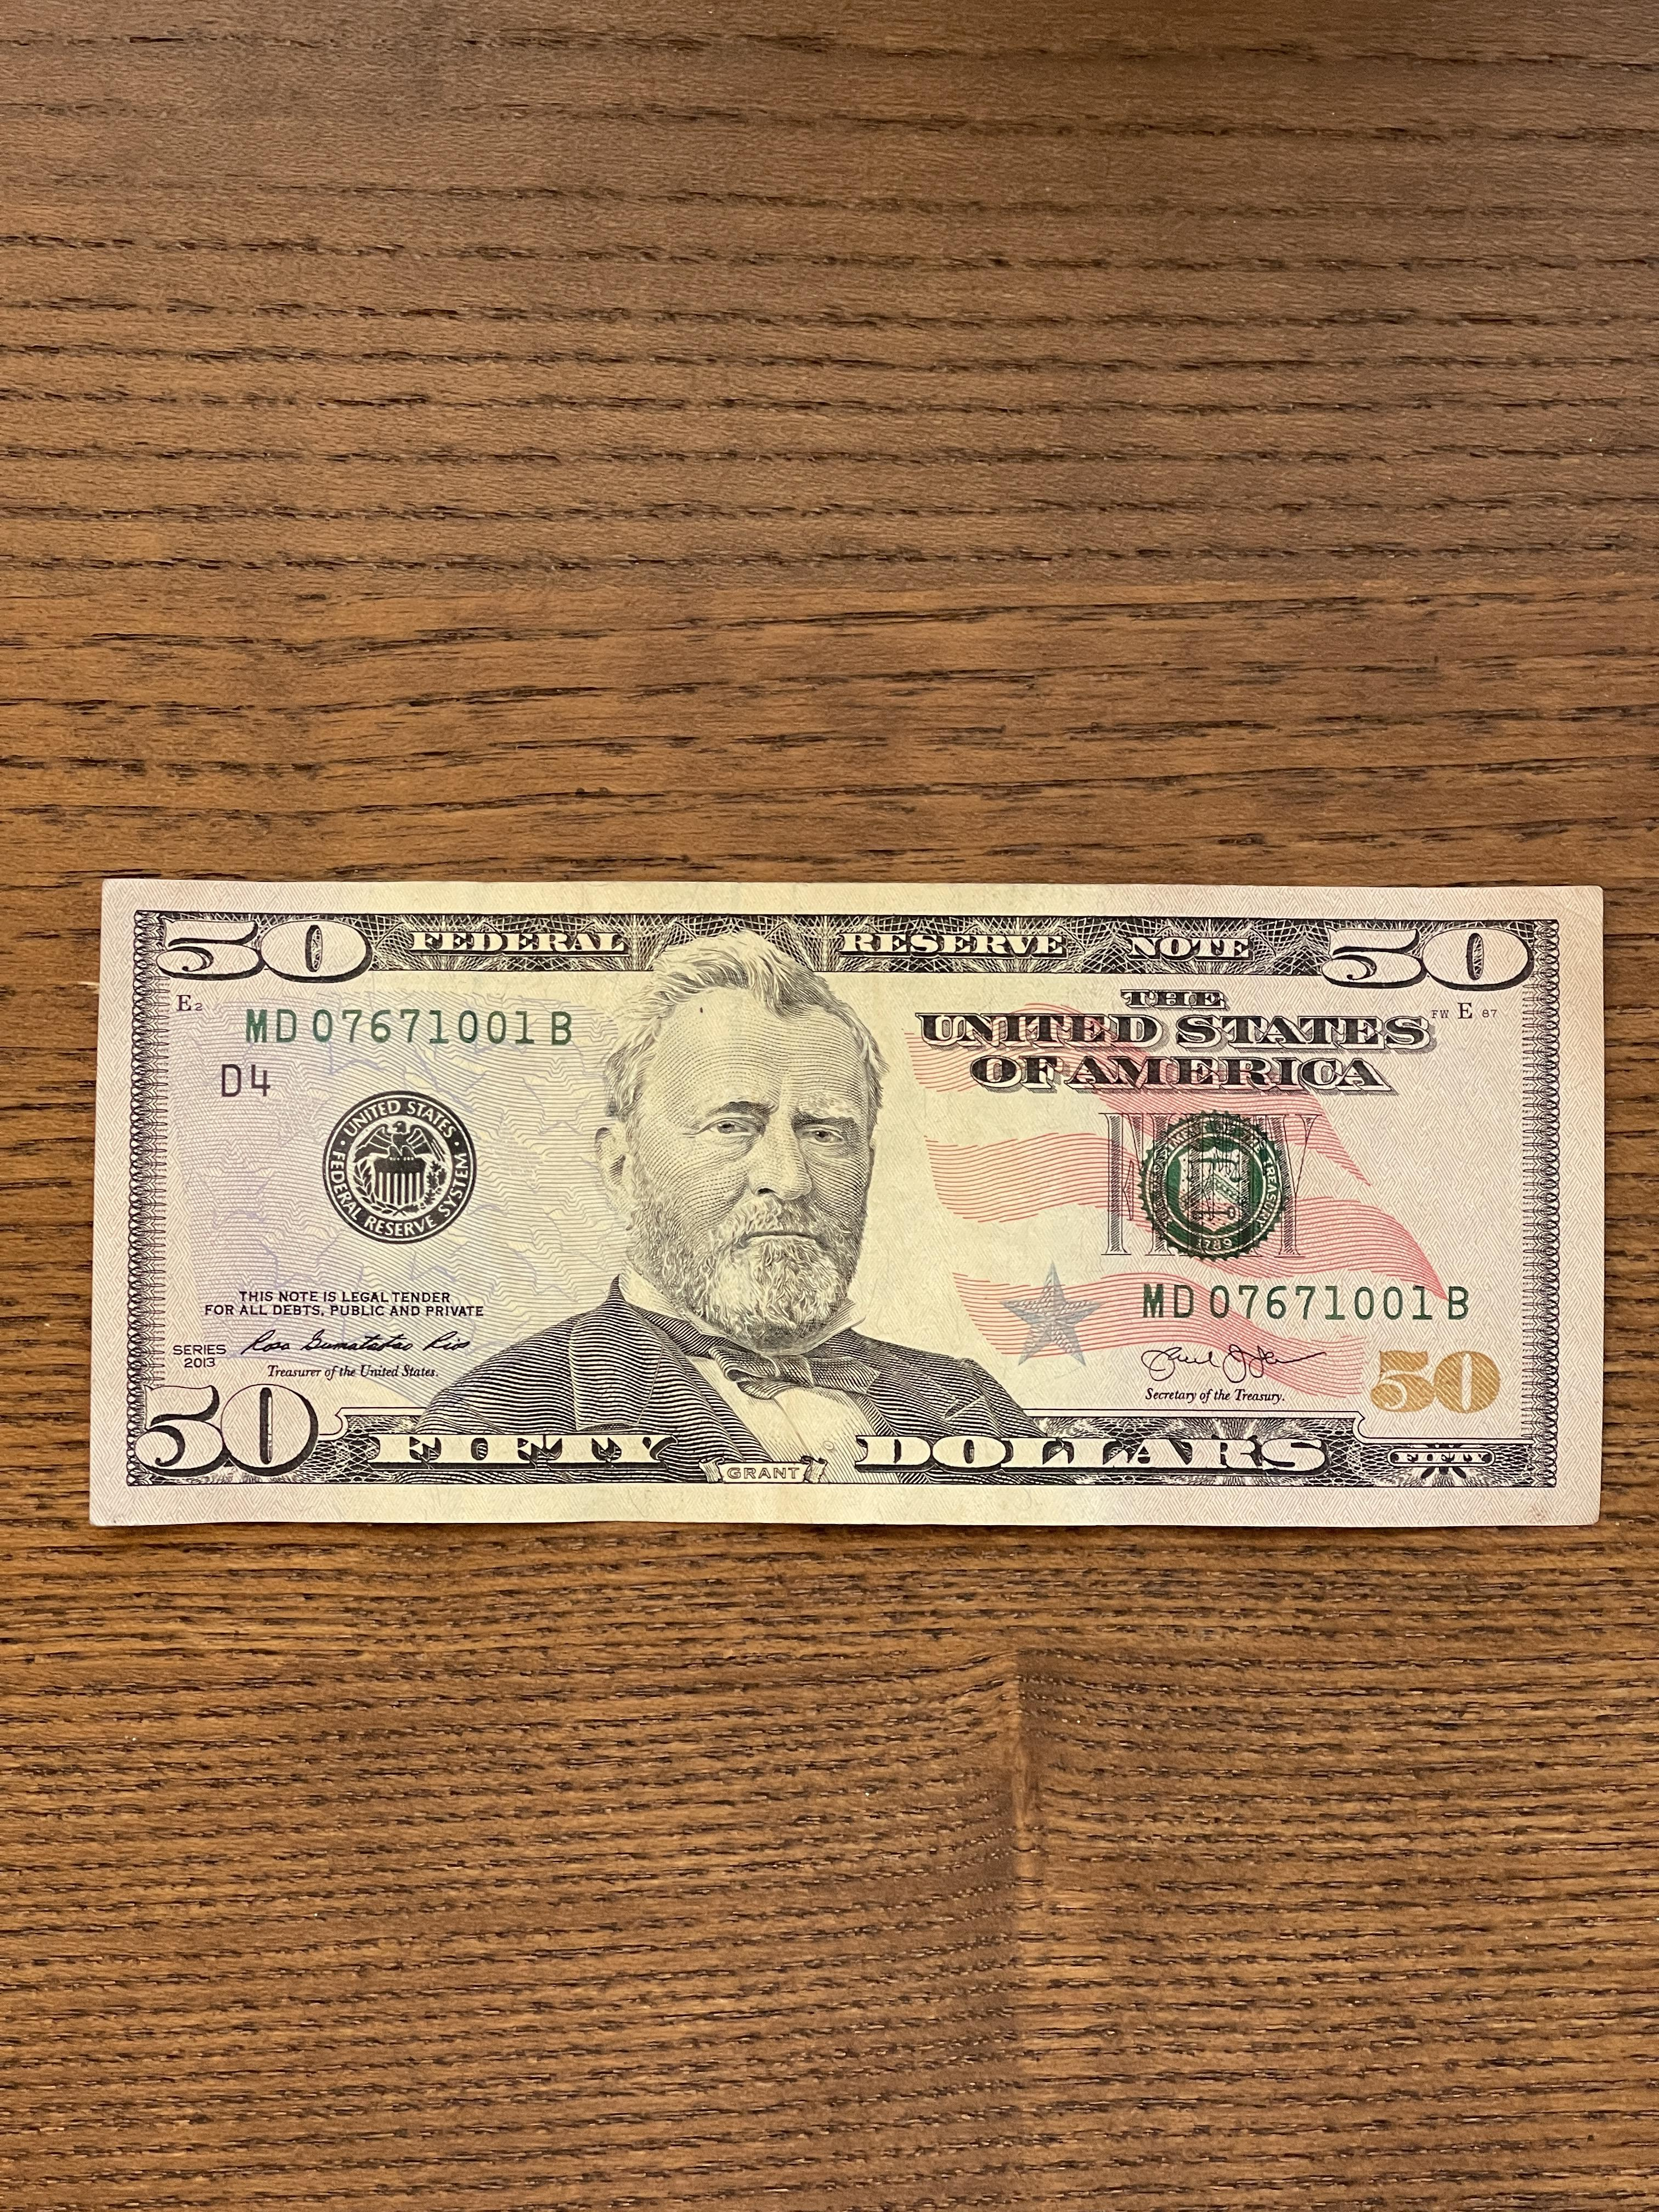FiftyBill: (85, 873, 1607, 1534)
